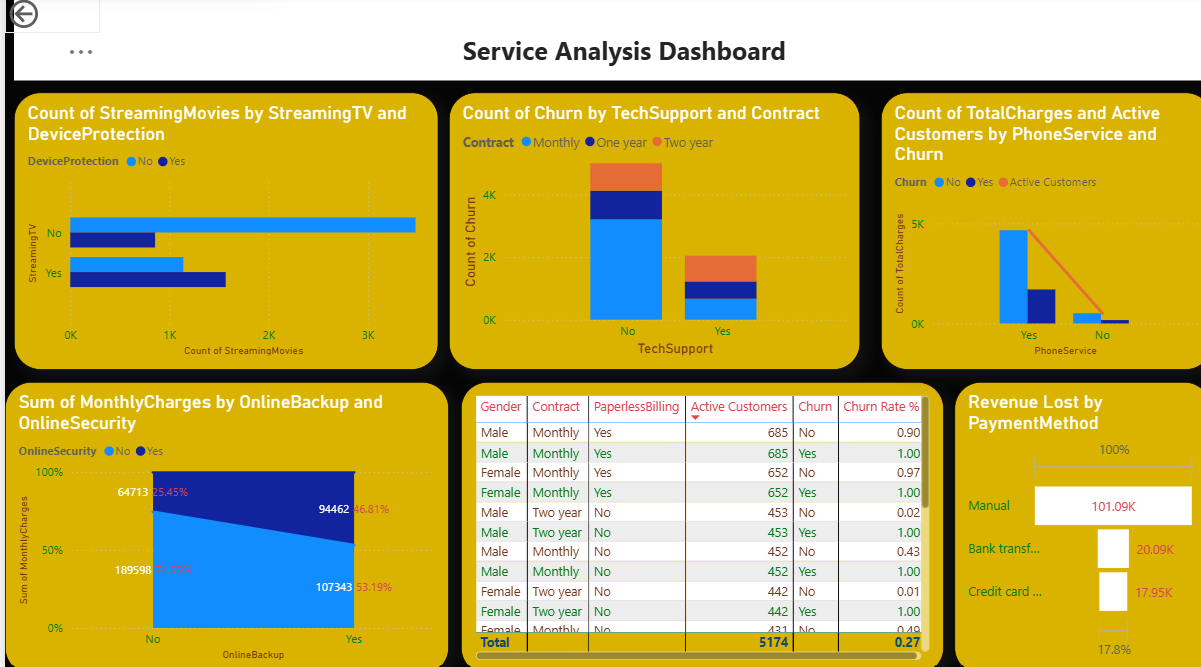

This screenshot's page, from the dashboard's own definition file:
{"tool":"powerbi","page":{"name":"Page 3","canvas":[1280,720],"ordinal":2},"visuals":[{"type":"textbox","box":[9.7,0,1271.1,90.7],"z":0},{"type":"clusteredBarChart","fields":{"Category":["churn_analysis telecom_churn.StreamingTV"],"Y":["CountNonNull(churn_analysis telecom_churn.StreamingMovies)"],"Series":["churn_analysis telecom_churn.DeviceProtection"]},"box":[9.5,103.4,450.1,294.3],"z":1},{"type":"columnChart","fields":{"Category":["churn_analysis telecom_churn.TechSupport"],"Y":["CountNonNull(churn_analysis telecom_churn.Churn)"],"Series":["churn_analysis telecom_churn.Contract"]},"box":[470.8,103.4,435.8,294.3],"z":2},{"type":"hundredPercentStackedAreaChart","fields":{"Y":["Sum(churn_analysis telecom_churn.MonthlyCharges)"],"Category":["churn_analysis telecom_churn.OnlineBackup"],"Series":["churn_analysis telecom_churn.OnlineSecurity"]},"box":[0,410.4,470.8,310.2],"z":3},{"type":"tableEx","fields":{"Values":["churn_analysis telecom_churn.Gender","churn_analysis telecom_churn.Contract","churn_analysis telecom_churn.PaperlessBilling","churn_analysis telecom_churn.Active Customers","churn_analysis telecom_churn.Churn","churn_analysis telecom_churn.Churn Rate %"]},"box":[483.5,410.4,512.2,310.2],"z":4},{"type":"actionButton","box":[0,0,100,40],"z":5},{"type":"lineClusteredColumnComboChart","fields":{"Category":["churn_analysis telecom_churn.PhoneService"],"Y":["CountNonNull(churn_analysis telecom_churn.TotalCharges)"],"Y2":["churn_analysis telecom_churn.Active Customers"],"Series":["churn_analysis telecom_churn.Churn"]},"box":[928.9,103.4,351.5,294.3],"z":6},{"type":"funnel","fields":{"Y":["churn_analysis telecom_churn.Revenue Lost"],"Category":["churn_analysis telecom_churn.PaymentMethod"]},"box":[1006.9,410.4,272,310.2],"z":7}]}

Visuals, with their boxes in screenshot pixels (x1, y1, x2, y2):
textbox: bbox=[9, 0, 1200, 76]
clusteredBarChart - churn_analysis telecom_churn.StreamingTV x CountNonNull(churn_analysis telecom_churn.StreamingMovies): bbox=[9, 88, 435, 367]
columnChart - churn_analysis telecom_churn.TechSupport x CountNonNull(churn_analysis telecom_churn.Churn): bbox=[445, 88, 858, 367]
hundredPercentStackedAreaChart - Sum(churn_analysis telecom_churn.MonthlyCharges) x churn_analysis telecom_churn.OnlineBackup: bbox=[0, 379, 445, 666]
tableEx - churn_analysis telecom_churn.Gender x churn_analysis telecom_churn.Contract: bbox=[457, 379, 942, 666]
actionButton: bbox=[0, 0, 95, 28]
lineClusteredColumnComboChart - churn_analysis telecom_churn.PhoneService x CountNonNull(churn_analysis telecom_churn.TotalCharges): bbox=[879, 88, 1200, 367]
funnel - churn_analysis telecom_churn.Revenue Lost x churn_analysis telecom_churn.PaymentMethod: bbox=[953, 379, 1200, 666]
